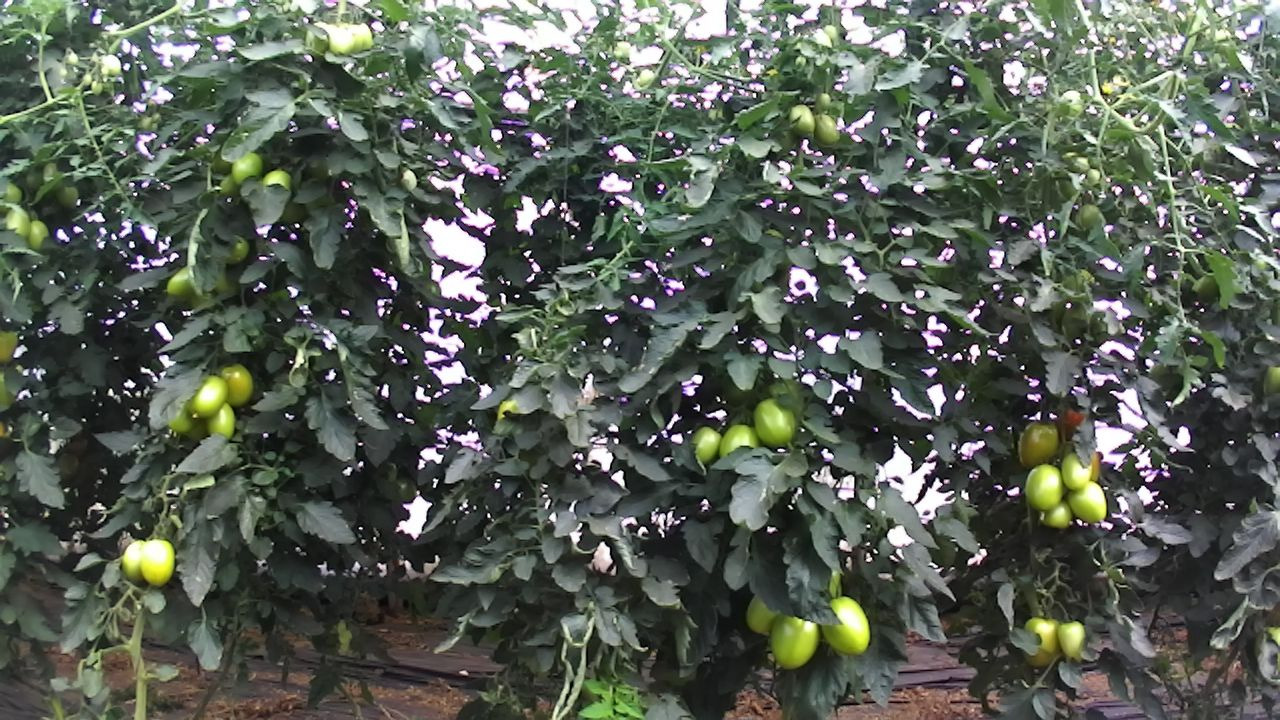tomato: (819, 593, 873, 656), (767, 611, 821, 671), (182, 371, 230, 424), (751, 395, 797, 448), (1016, 418, 1061, 470), (1018, 614, 1060, 669), (740, 589, 783, 642), (1022, 461, 1065, 514), (213, 360, 257, 410), (1064, 478, 1108, 526), (138, 537, 176, 588), (714, 419, 759, 459), (685, 421, 724, 467), (1053, 618, 1092, 664), (205, 398, 241, 443), (1058, 449, 1094, 492), (230, 146, 267, 187), (784, 99, 819, 141), (163, 262, 199, 301), (24, 214, 51, 258), (811, 111, 842, 145), (3, 204, 33, 239), (1073, 199, 1102, 233)
